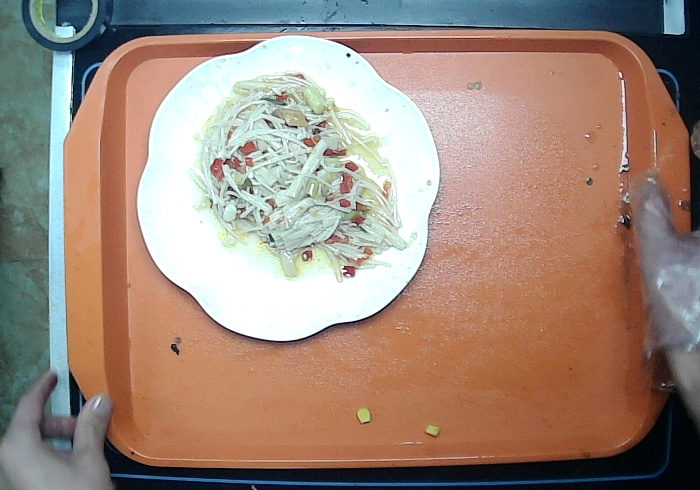HZYJPL-Bai_Se_Hua_Duo_Wan: (136, 33, 442, 342)
